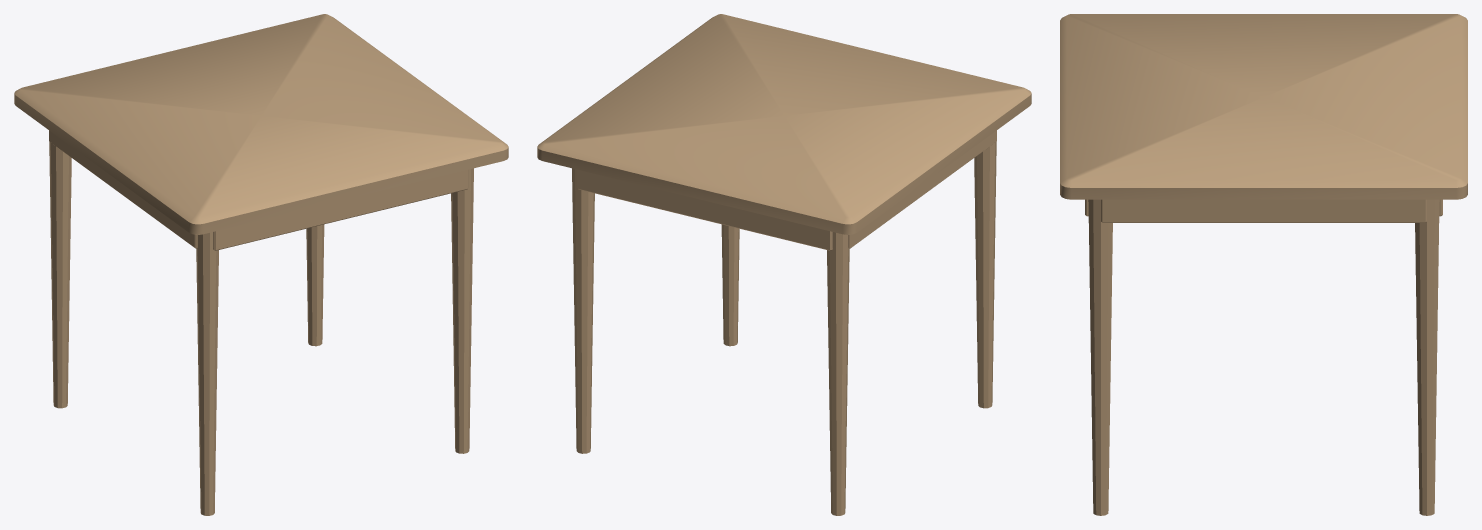
Rendered from cafe_table.glb.
3 renders of one model, left to right at view 1: azimuth 30°, elevation 25°; view 2: azimuth 150°, elevation 25°; view 3: azimuth 270°, elevation 25°, orthographic. The views are drawn at different scales.
Visible parts, largest first — view 1: cafe-table-4-person; view 2: cafe-table-4-person; view 3: cafe-table-4-person.
Part boxes in pixels (x1=…): cafe-table-4-person: x1=14, y1=14, x2=508, y2=515; cafe-table-4-person: x1=537, y1=14, x2=1031, y2=515; cafe-table-4-person: x1=1060, y1=14, x2=1467, y2=515.
Bounding box in the file's own units: 0.8 × 0.75 × 0.8.
